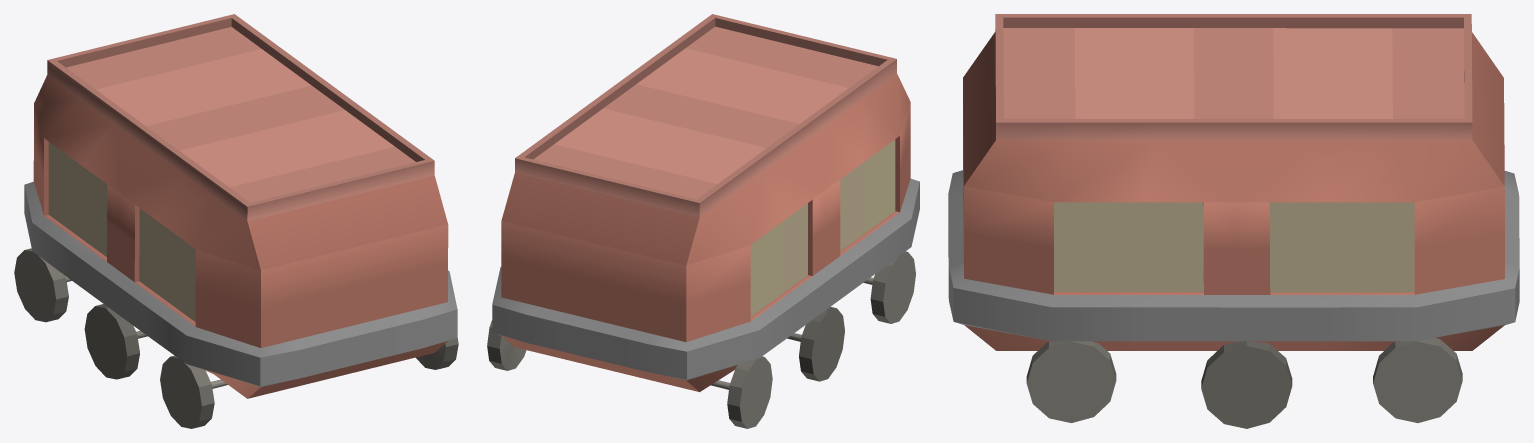
The model's file is Red Train.fbx.
The picture shows the model from 3 angles, left to right: view 1: azimuth 30°, elevation 25°; view 2: azimuth 150°, elevation 25°; view 3: azimuth 270°, elevation 25°; orthographic projection. The views are drawn at different scales.
Parts seen in each view (by area): view 1: pCube1, pCylinder3, pCylinder2, pCylinder4; view 2: pCube1, pCylinder4, pCylinder2, pCylinder3; view 3: pCube1, pCylinder2, pCylinder4, pCylinder3.
Boxes of the visible parts, x1,y1,x2,y2 form: pCube1: [24, 14, 457, 398]; pCylinder3: [160, 338, 458, 428]; pCylinder2: [84, 304, 147, 379]; pCylinder4: [14, 248, 71, 322]; pCube1: [492, 14, 919, 392]; pCylinder4: [487, 320, 772, 428]; pCylinder2: [787, 306, 844, 381]; pCylinder3: [863, 251, 915, 323]; pCube1: [948, 14, 1519, 350]; pCylinder2: [1201, 341, 1292, 428]; pCylinder4: [1373, 338, 1462, 422]; pCylinder3: [1026, 341, 1116, 422].
Bounding box in the file's own units: 3.55 × 3.08 × 5.6.
